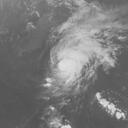cyclone: (48, 4, 108, 98)
